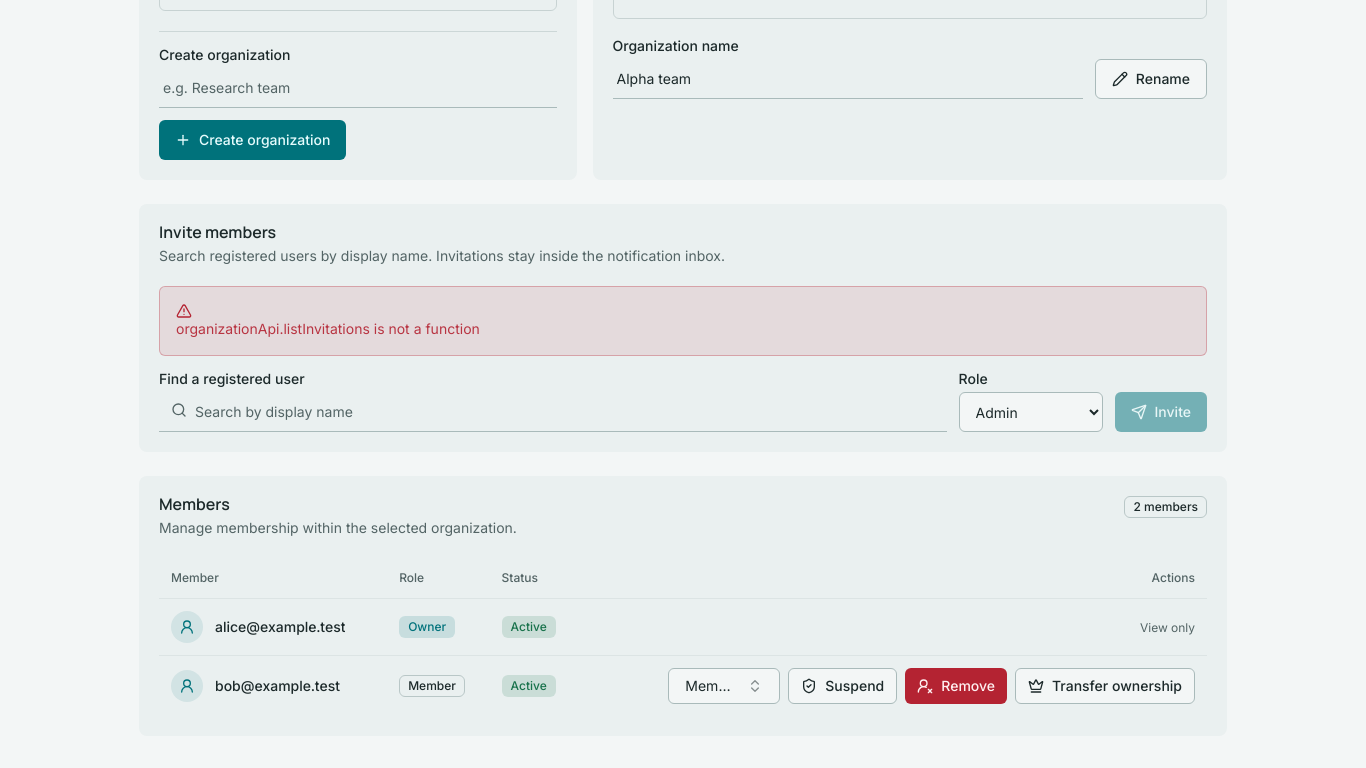
Test: organization settings page › requires confirmation before transferring ownership
(page scrolled)
Expected: the text "bob@example.test" is shown, top-left (215, 676), bottom-right (340, 696)
Click the button "Transfer ownership" at (1105, 686), box top-left (1015, 668), bottom-right (1195, 704)
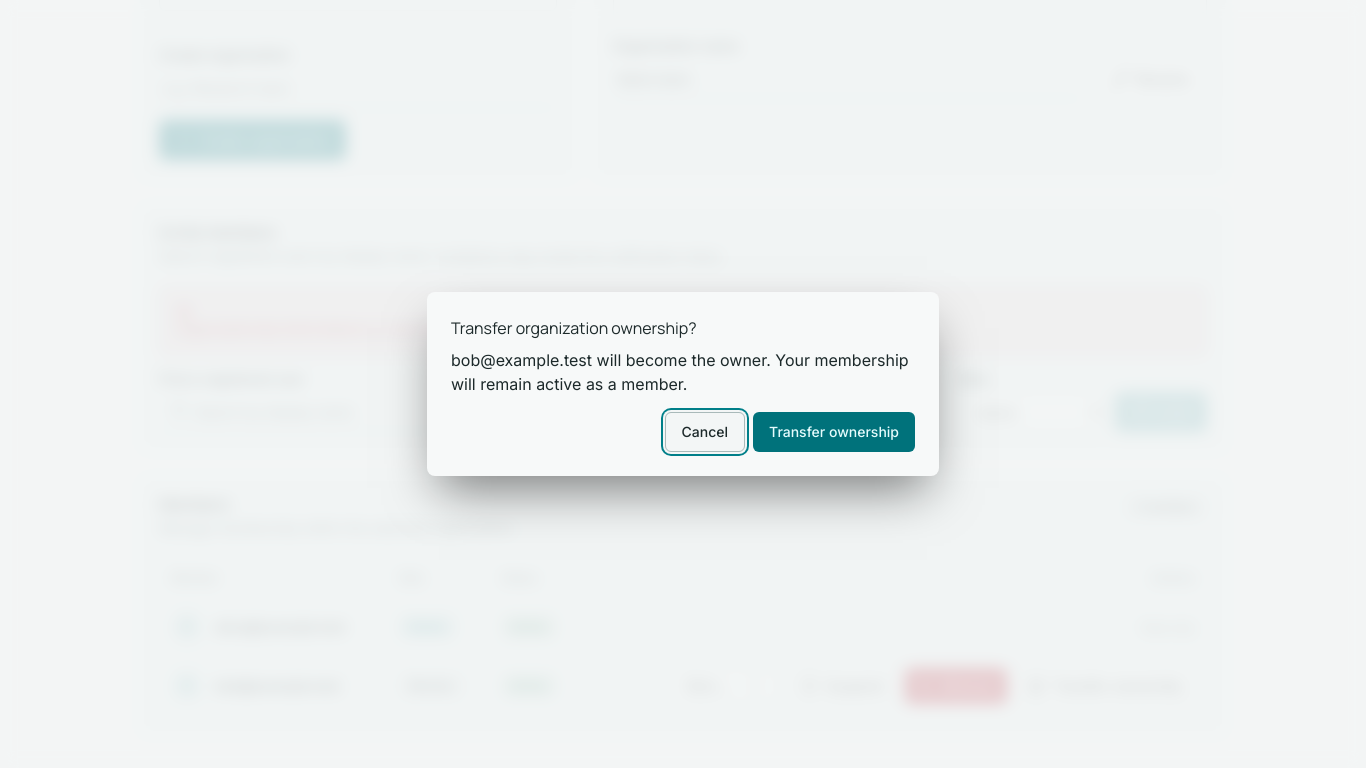
Expected: the text "bob@example.test will become the owner" is shown, top-left (451, 350), bottom-right (909, 394)
Click the button "Transfer ownership" at (834, 432), box top-left (753, 412), bottom-right (915, 452)
(page scrolled)
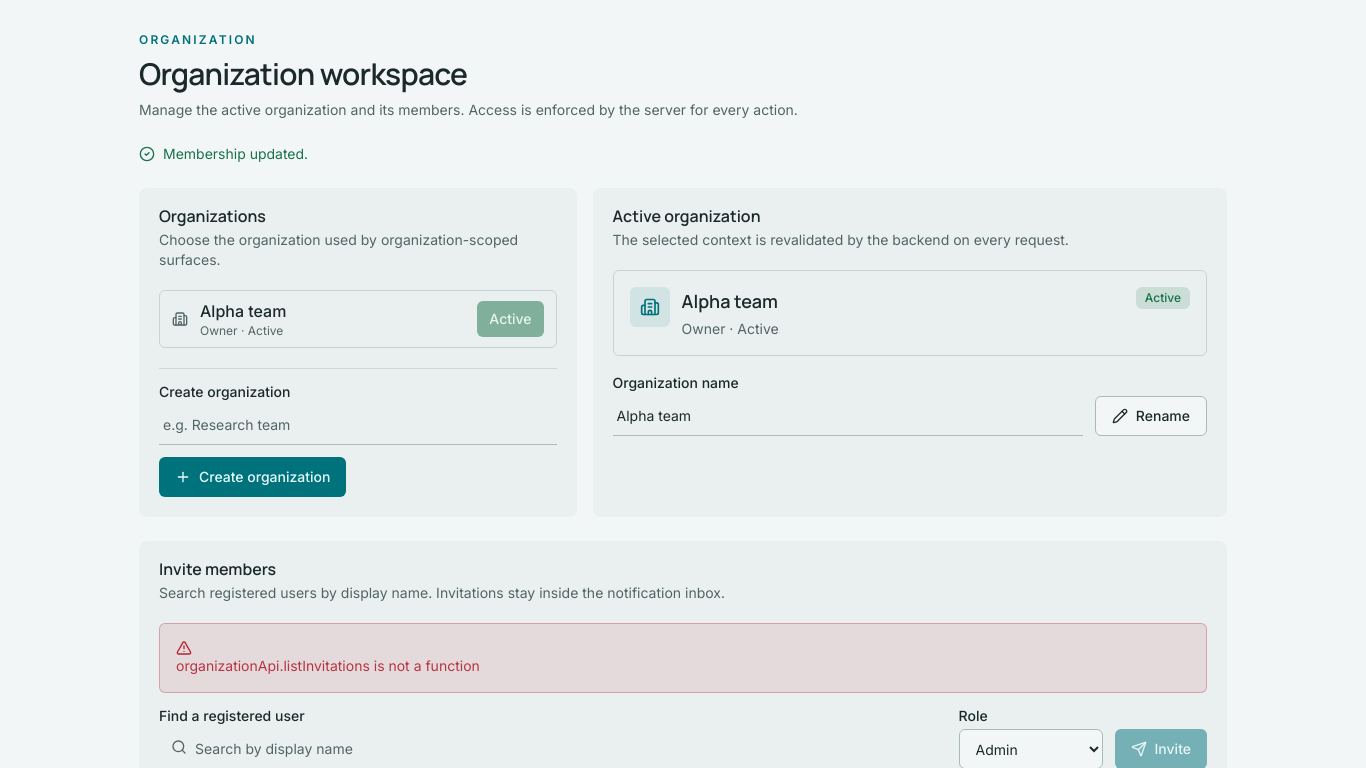
Expected: the text "Membership updated." is shown, top-left (163, 144), bottom-right (308, 164)
